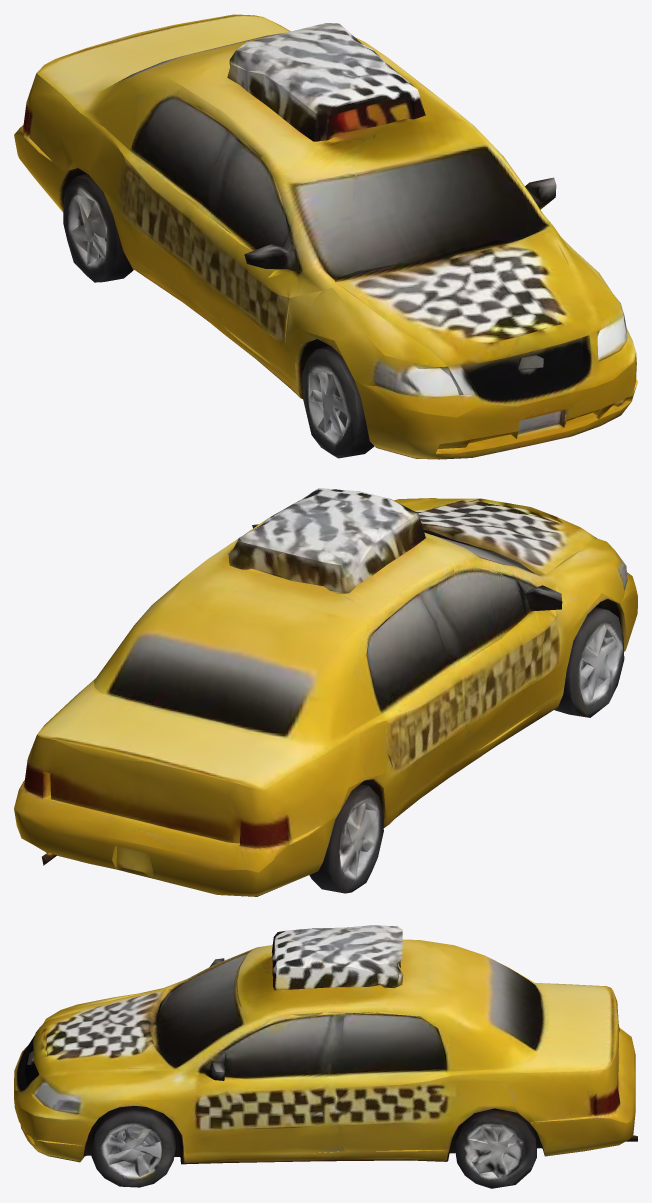
The model's file is taxiCab.glb.
3 views of the same model, one above another, from view 1: azimuth 30°, elevation 25°; view 2: azimuth 150°, elevation 25°; view 3: azimuth 270°, elevation 25° (orthographic). The views are drawn at different scales.
Visible parts, largest first — view 1: model; view 2: model; view 3: model.
Boxes of the visible parts, left/top/right/bottom form: model: left=14, top=14, right=637, bottom=459; model: left=14, top=488, right=637, bottom=896; model: left=14, top=925, right=637, bottom=1188.
Bounding box in the file's own units: 0.8166 × 0.6671 × 1.89.
1 material, 1 textured.
